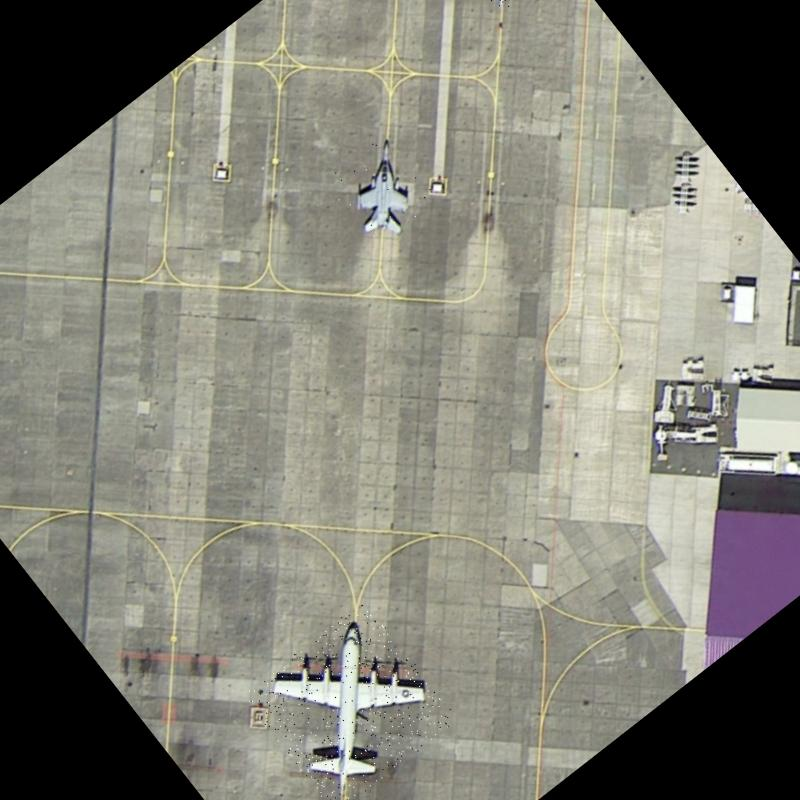A16: (320, 130, 443, 254)
A9: (242, 598, 459, 800)
